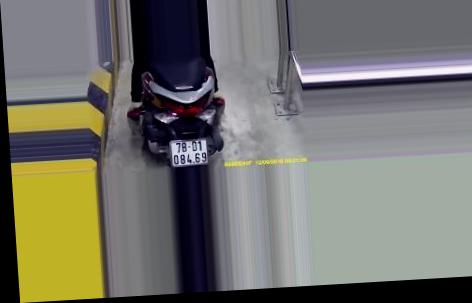License_Plate: (165, 135, 212, 170)
